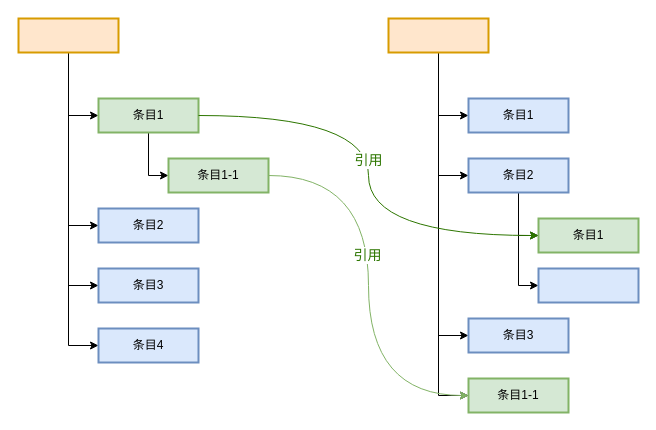
Some shapes in this 656 by 430 pixel diagram are drawn without their labels. Here are the shapes that lost their labels. From the top down, the centre of each, then its label:
the point at 68,35: 文档一
the point at 438,35: 文档二
the point at 588,285: 条目2-1
